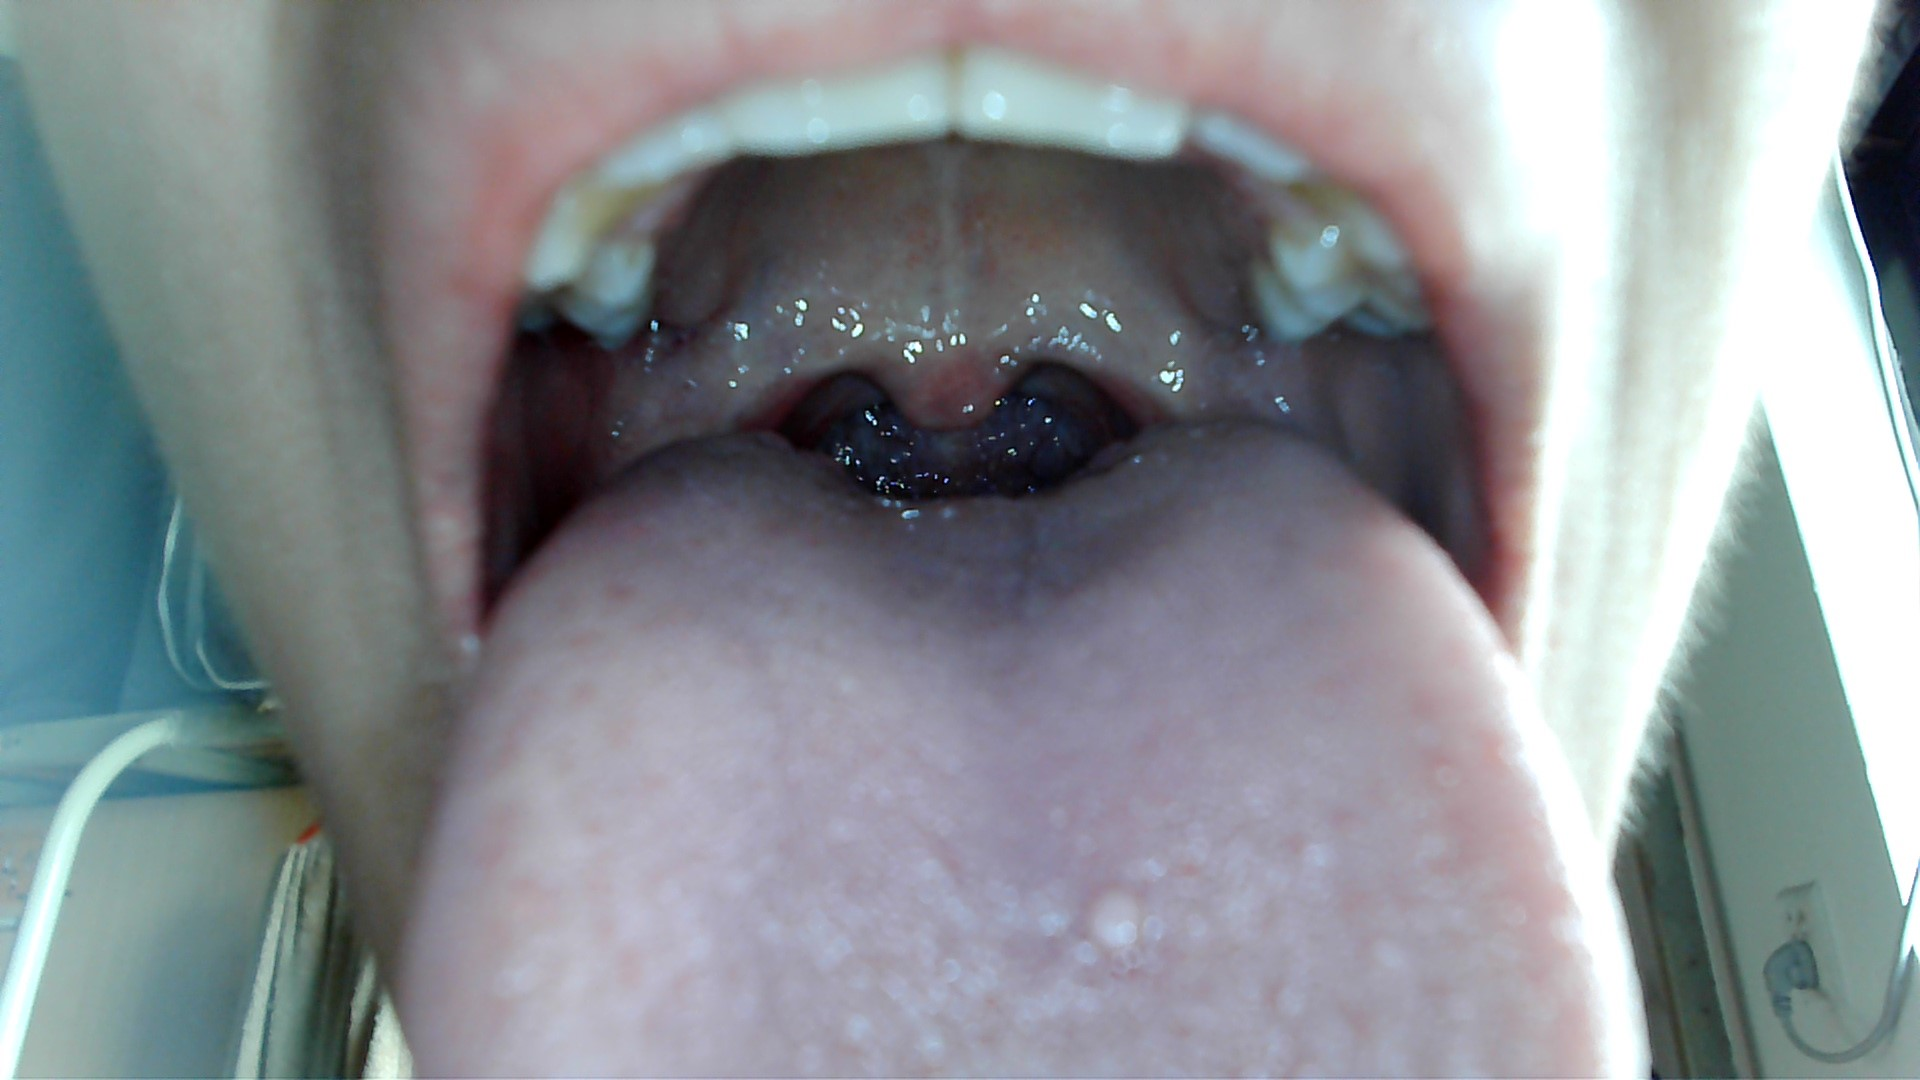throat: (1095, 320, 1226, 429), (682, 340, 818, 436)
